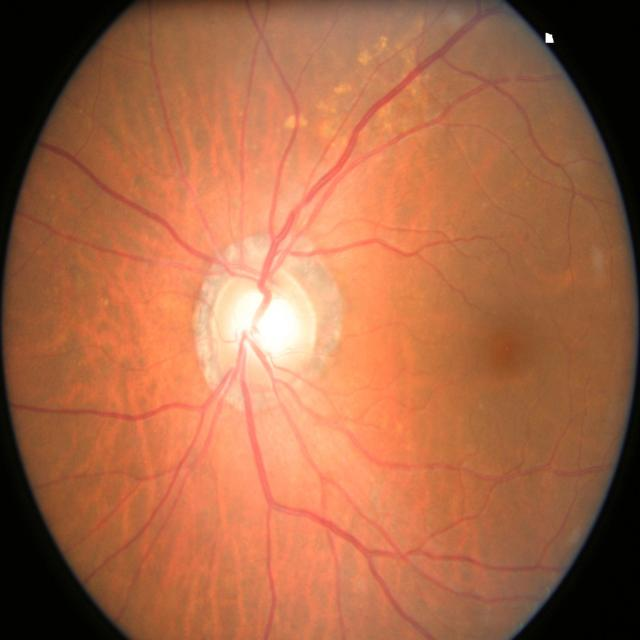OC: (227, 286, 299, 364)
OD: (198, 261, 319, 400)
